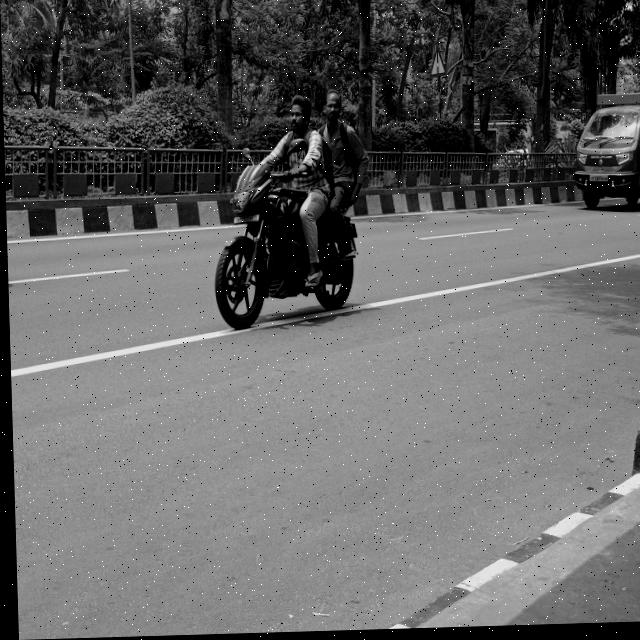bike: (183, 156, 379, 329)
car: (566, 102, 640, 214)
